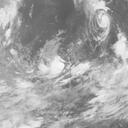cyclone: (38, 58, 100, 96), (88, 6, 112, 42)
